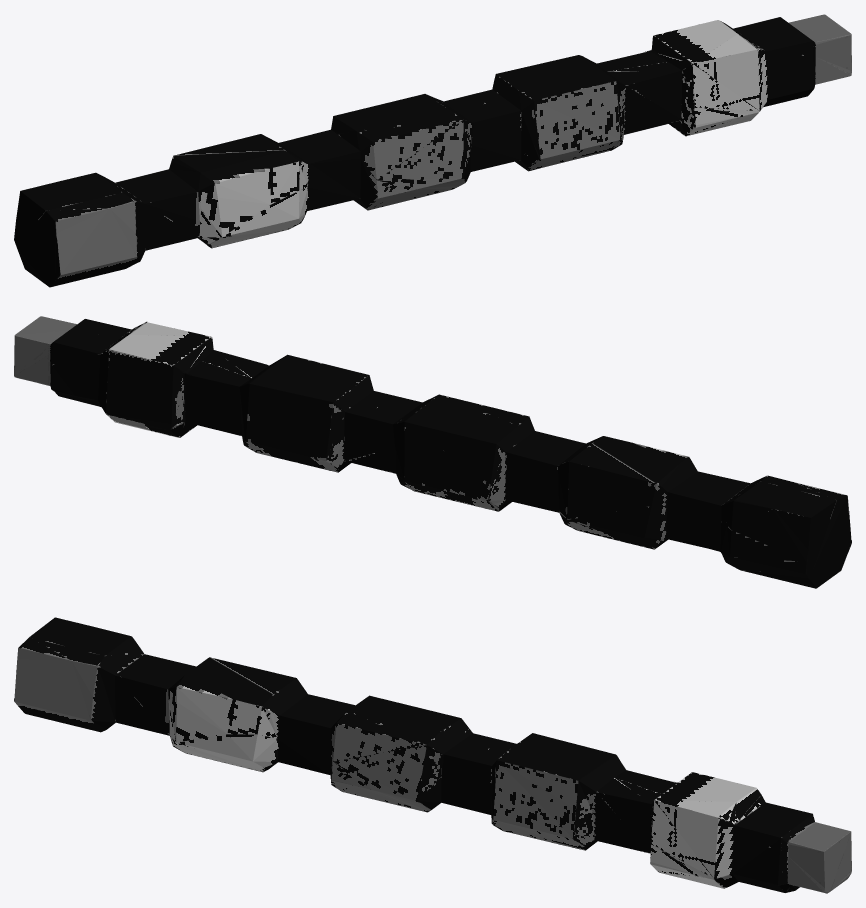
The picture shows the model from 3 angles, top to bottom: view 1: azimuth 30°, elevation 25°; view 2: azimuth 150°, elevation 25°; view 3: azimuth 330°, elevation 25°; orthographic projection.
Visible parts, largest first — view 1: OBJ099; view 2: OBJ099; view 3: OBJ099.
Part boxes in pixels (x1,y1,x2,y2): OBJ099: (14,14,851,287); OBJ099: (14,316,851,588); OBJ099: (14,617,851,893).
Bounding box in the file's own units: 0.3421 × 0.032 × 0.0349.
1 material, 1 textured.
